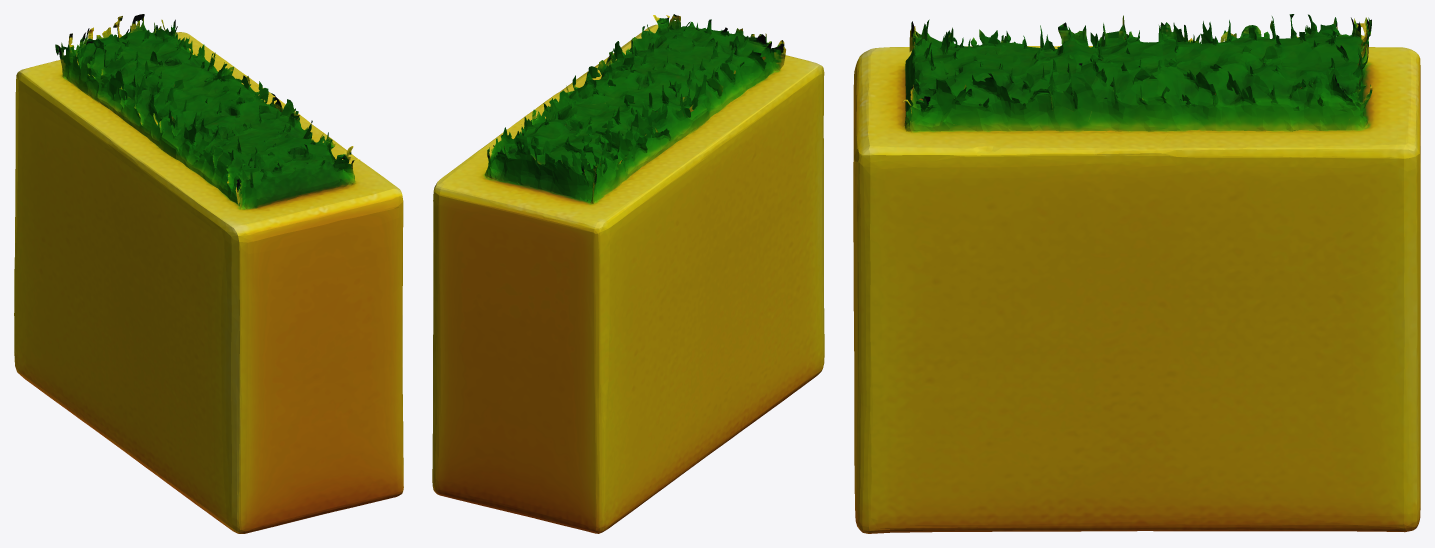
The model's file is kitchen_sponge.glb.
The picture shows the model from 3 angles, left to right: view 1: azimuth 30°, elevation 25°; view 2: azimuth 150°, elevation 25°; view 3: azimuth 270°, elevation 25°; orthographic projection. The views are drawn at different scales.
Visible parts, largest first — view 1: kitchen_sponge.obj; view 2: kitchen_sponge.obj; view 3: kitchen_sponge.obj.
Boxes of the visible parts, left/top/right/bottom form: kitchen_sponge.obj: left=14, top=14, right=403, bottom=533; kitchen_sponge.obj: left=432, top=14, right=824, bottom=533; kitchen_sponge.obj: left=853, top=14, right=1420, bottom=533.
Bounding box in the file's own units: 0.0383 × 0.075 × 0.0859.
Materials: 1 (1 with a texture image).
